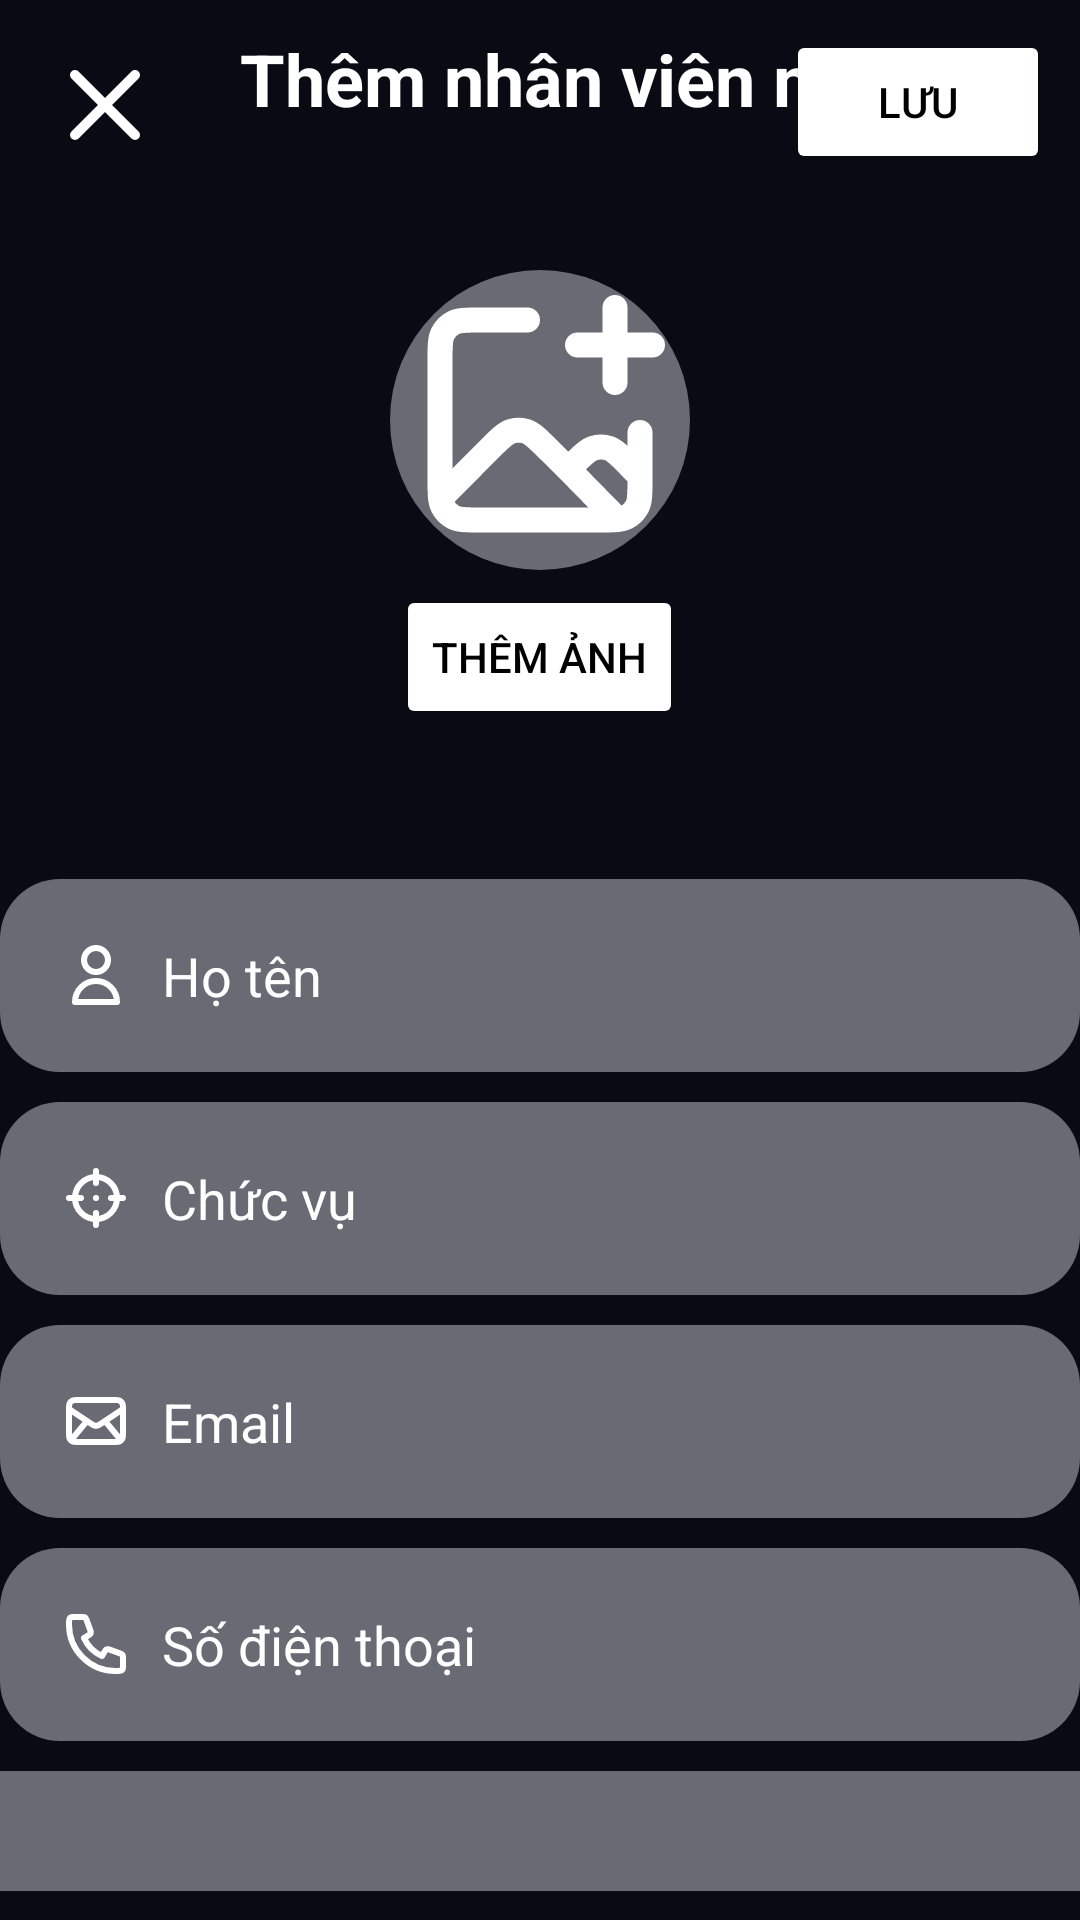

Locate icon controls on the screen. Image size 1080w x 1920h, boxes as (x1, y1, x2, y2).
close: (70, 70, 140, 140)
